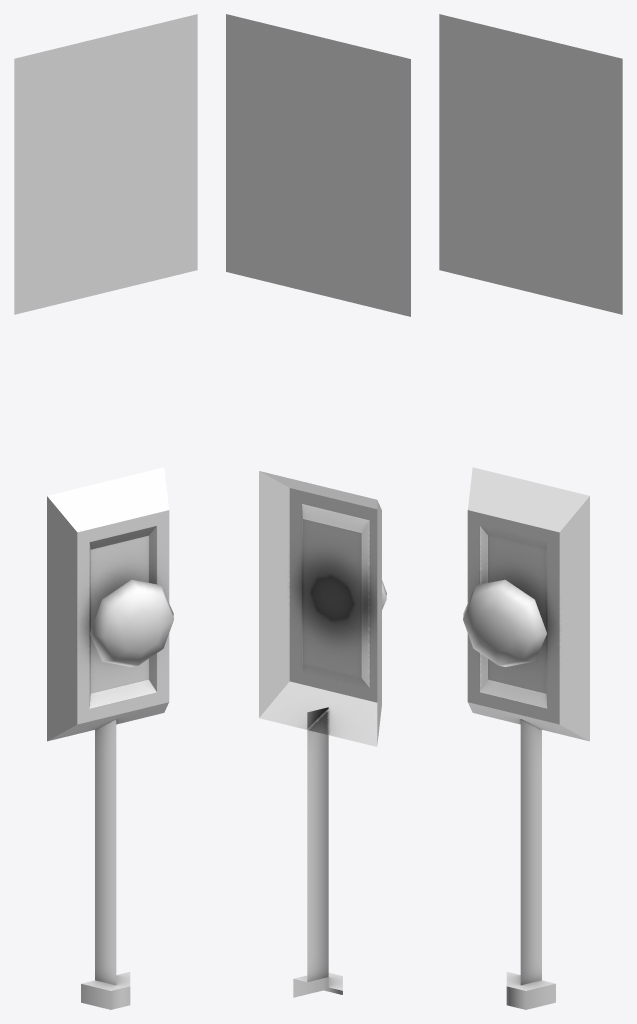
Rendered from alertbutton.FBX.
3 renders of one model, left to right at view 1: azimuth 30°, elevation 25°; view 2: azimuth 150°, elevation 25°; view 3: azimuth 330°, elevation 25°, orthographic.
Parts seen in each view (by area): view 1: Alert button; view 2: Alert button; view 3: Alert button.
Part boxes in pixels (left/top/right/bottom): Alert button: left=14, top=14, right=197, bottom=1009; Alert button: left=226, top=14, right=410, bottom=997; Alert button: left=439, top=14, right=622, bottom=1009.
Bounding box in the file's own units: 30 × 150 × 10.94.
